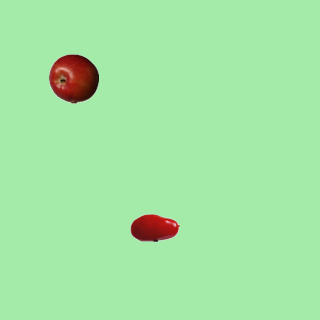Apple Braeburn: (48, 53, 98, 103)
Tomato 2: (129, 202, 179, 252)
